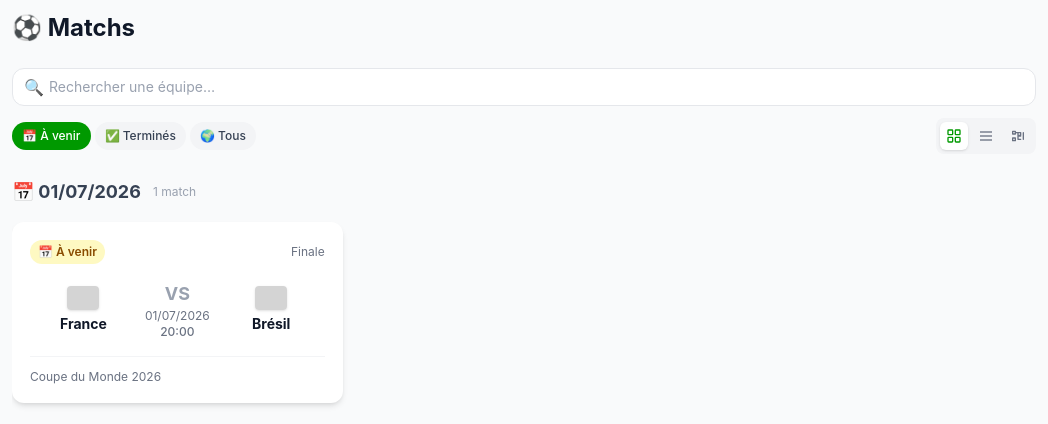
Matches — filtrage › filtre FINISHED : n'affiche que les matchs terminés
What coordinates should you click on to do the following:
click the button "✅ Terminés"
I would click on:
 (140, 136)
Its box is [94,122,186,150].
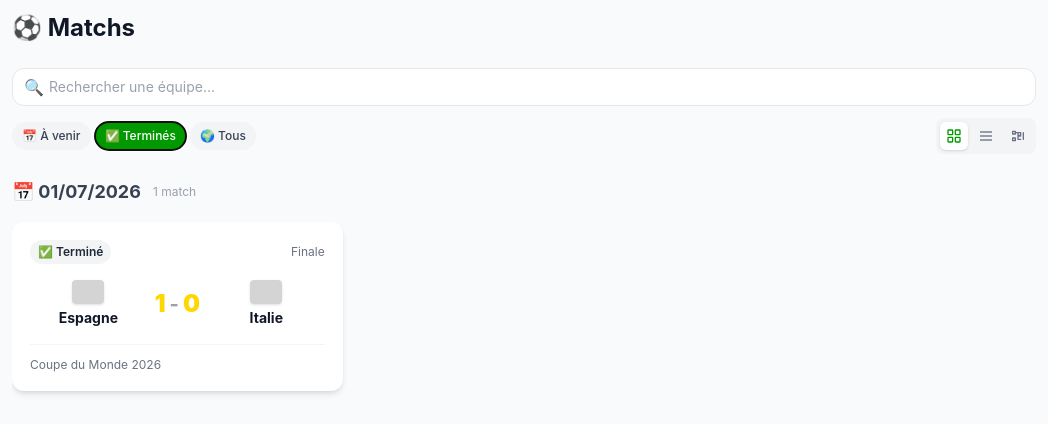
Now the text "Espagne" is shown, box [59,309,118,326]
Now the link "France" is gone
